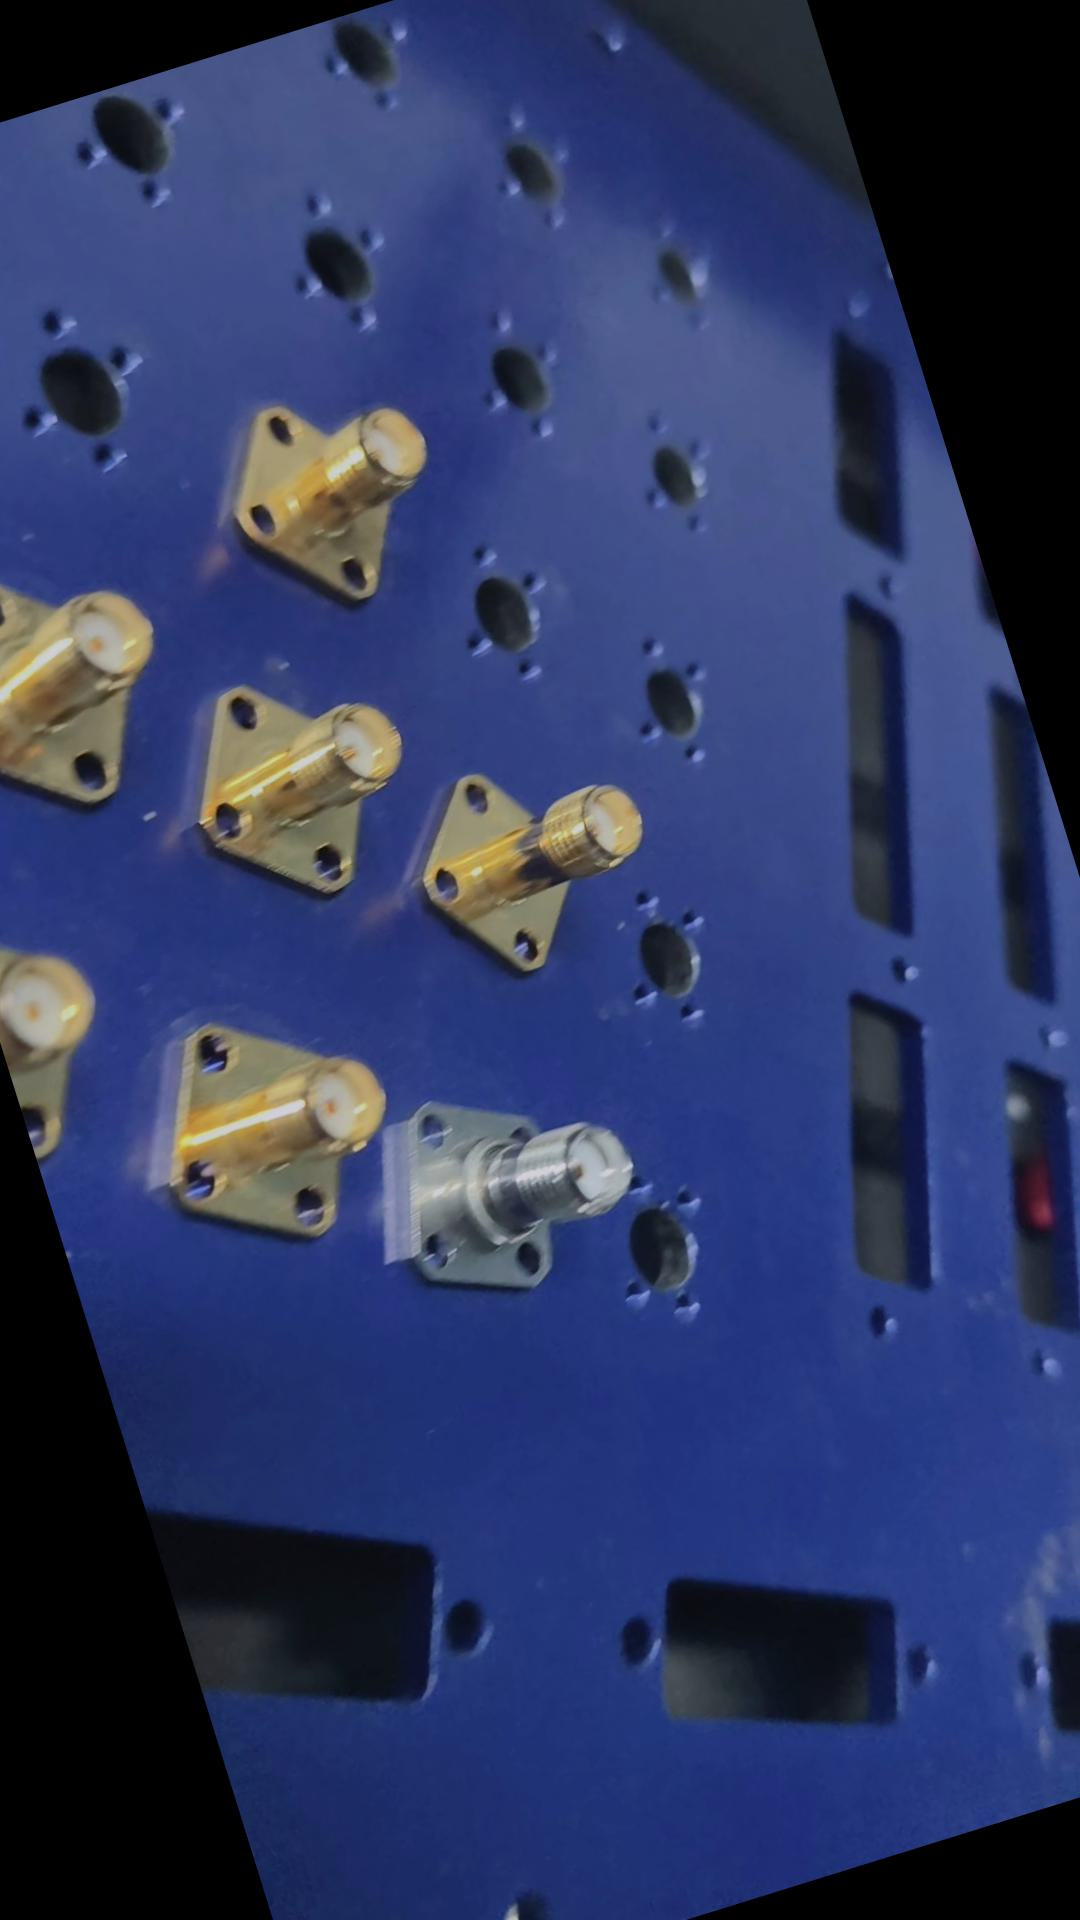SMA: (347, 1023, 662, 1324), (135, 973, 433, 1288), (389, 695, 674, 998), (198, 342, 469, 633), (167, 641, 440, 926), (0, 527, 210, 843)
